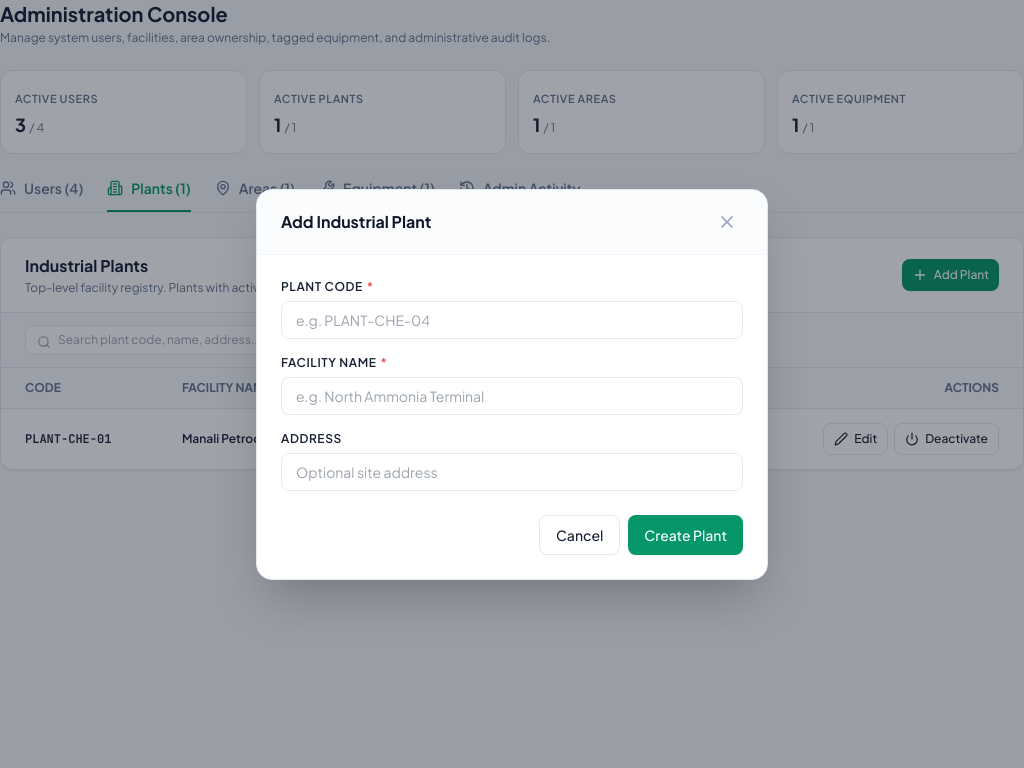
Test: AdminPage Component › switches tabs to Plants, Areas (D-028 reassignment notice), Equipment, and Admin Activity
This screenshot has width=1024, height=768.
Earlier steps of the test are not shown.
Later steps or results of the test are not shown.
Type "PLANT-02" into the field labelled "Plant Code*" at [512, 320], box [281,300,743,338]
Type "New Plant" into the field labelled "Facility Name*" at [512, 396], box [281,376,743,414]
Click the button "Create Plant" at [686, 534], box [628,514,743,554]
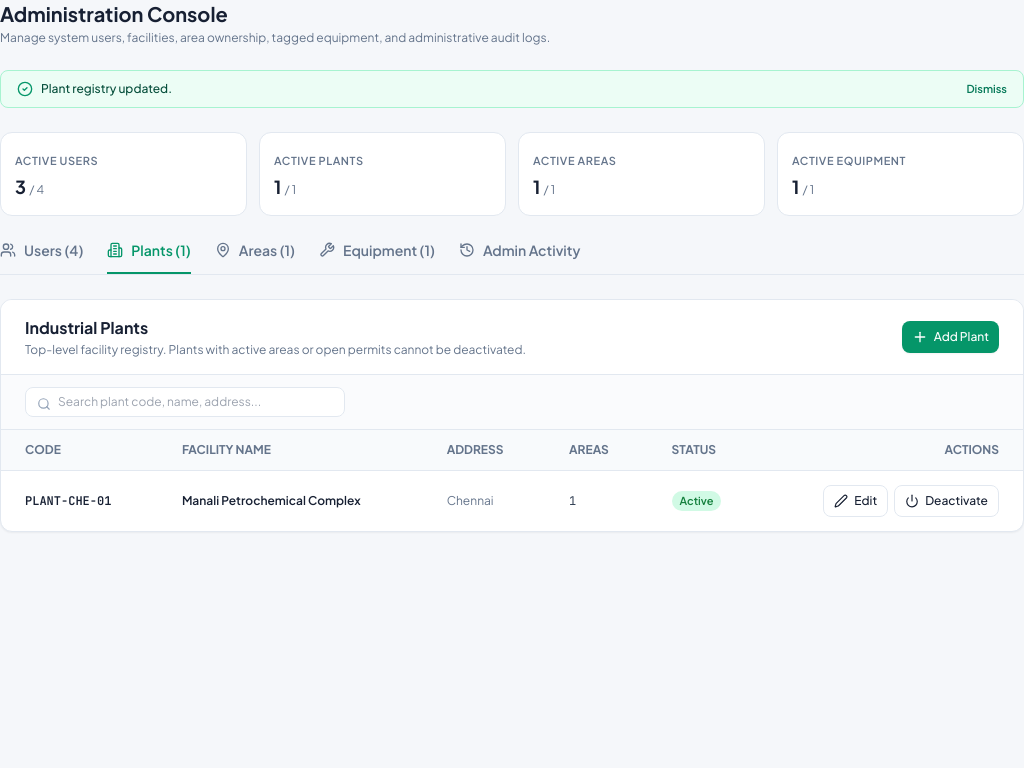
Click the tab "Areas (1)" at [255, 257], box [215,240,295,274]
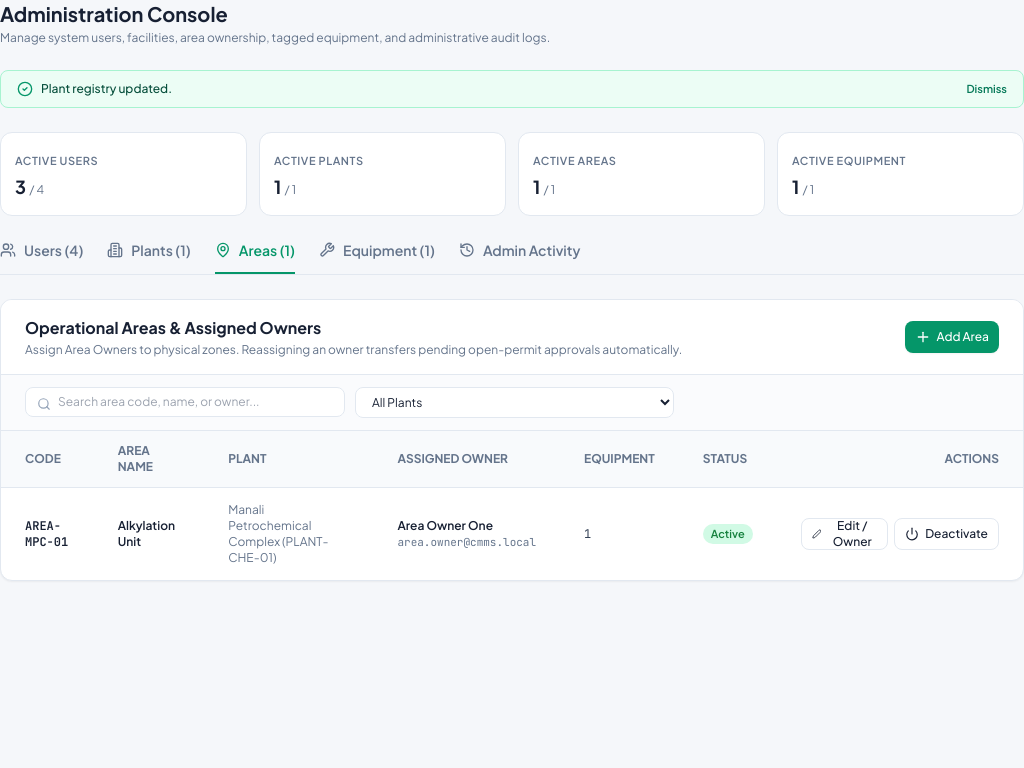
expect the heading "Operational Areas & Assigned Owners" is shown: met, box [25,317,321,338]
Click the button "Edit / Owner" at [844, 534], box [801,518,888,550]
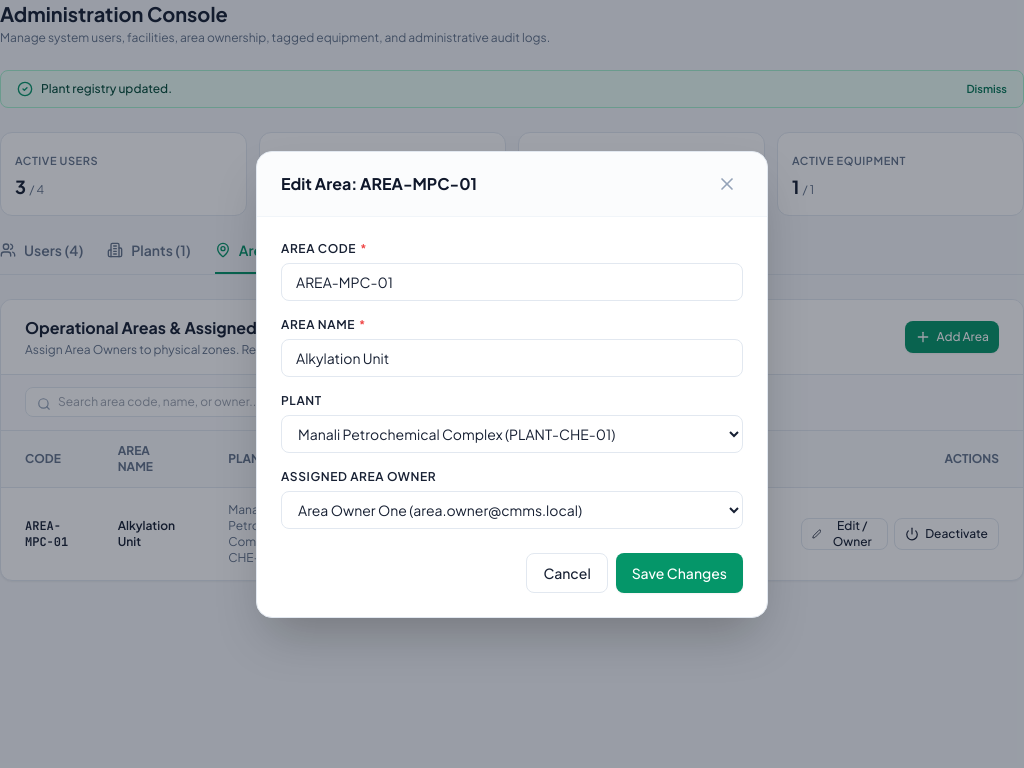
Select "Area Owner Two (area.owner2@cmms.local)" in the dropdown labelled "Assigned Area Owner" at [512, 510], box [281,490,743,528]
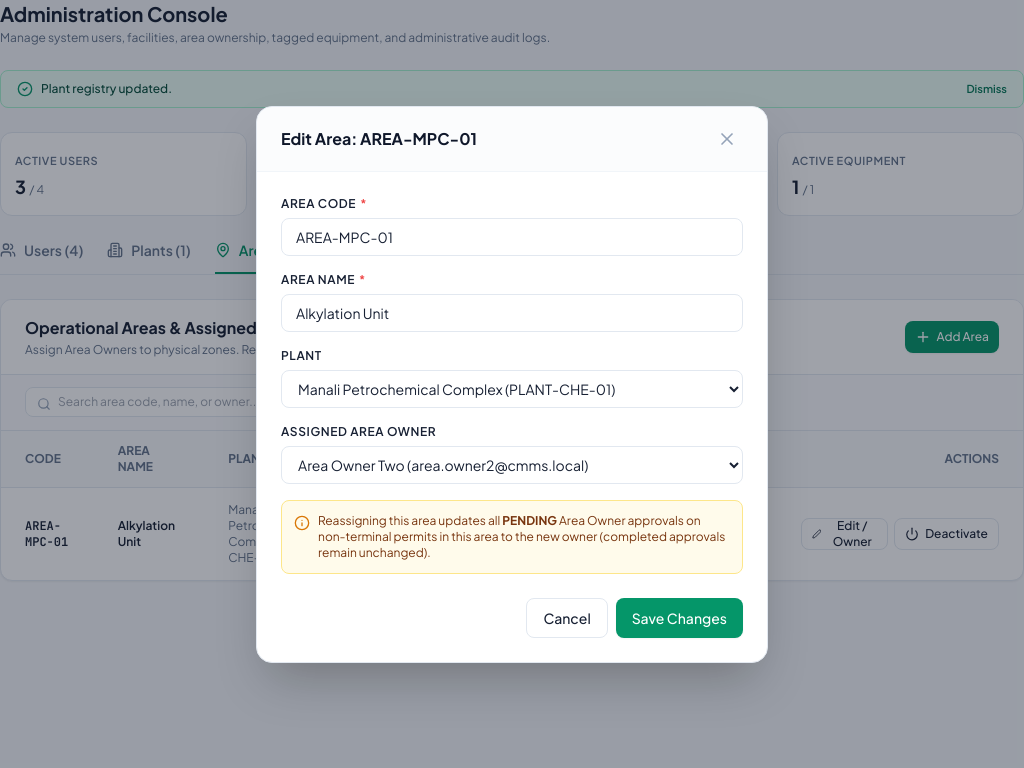
expect the text "Reassigning this area updates all" is shown: met, box [318,512,502,528]
Click the button "Save Changes" at [679, 618], box [616,598,743,638]
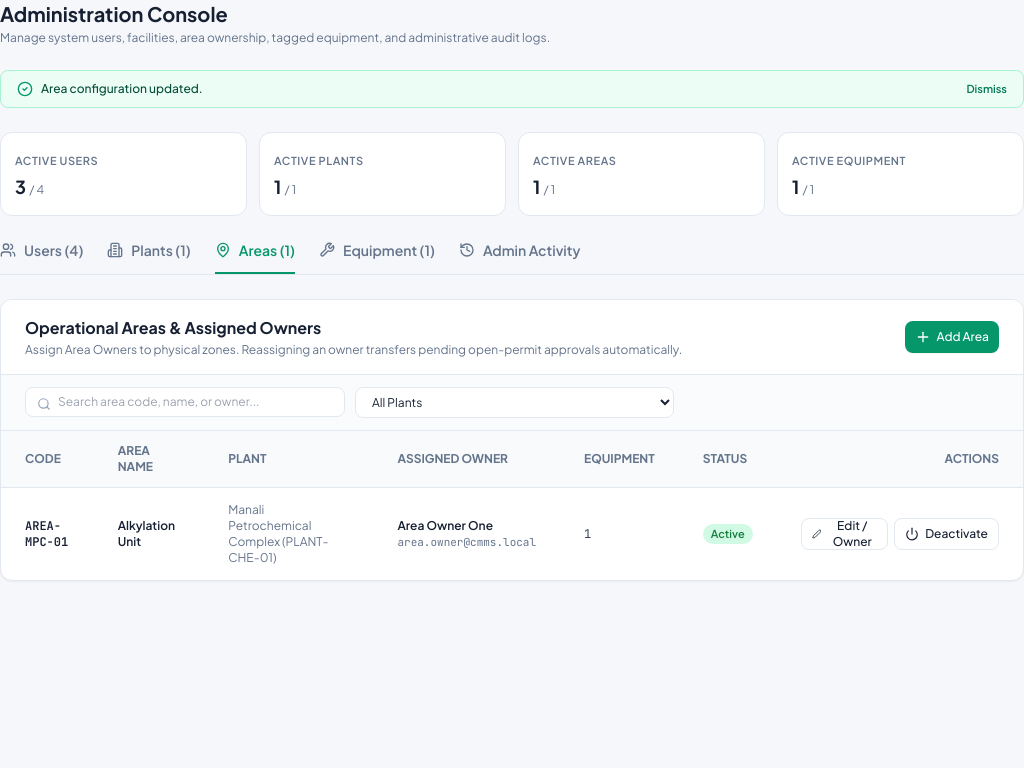
Click the tab "Equipment (1)" at [377, 257], box [319,240,435,274]
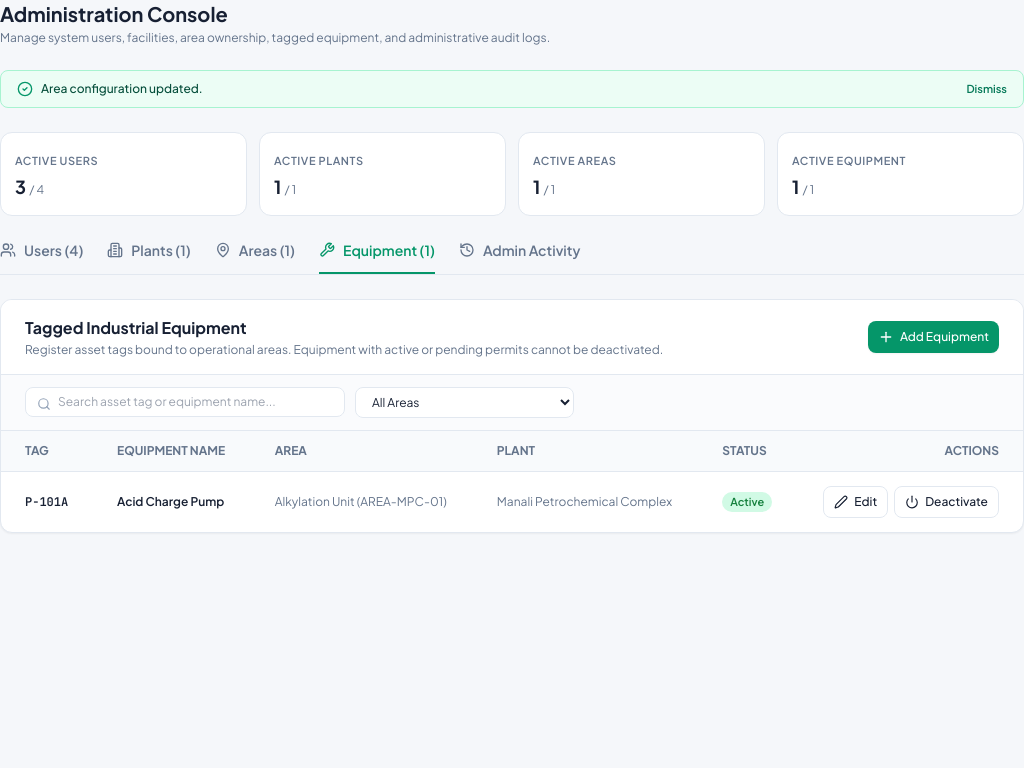
expect the heading "Tagged Industrial Equipment" is shown: met, box [25,317,247,338]
